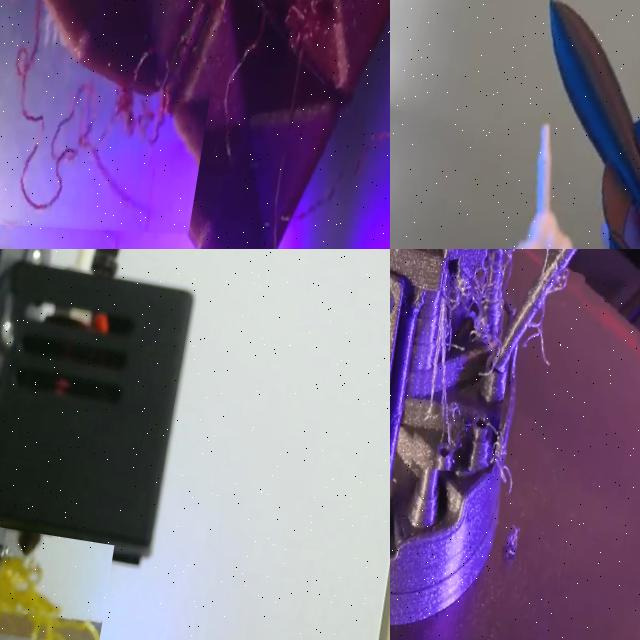spaghetti: (0, 0, 266, 249), (197, 0, 390, 249), (398, 249, 526, 481), (517, 266, 586, 382), (500, 518, 523, 560)
